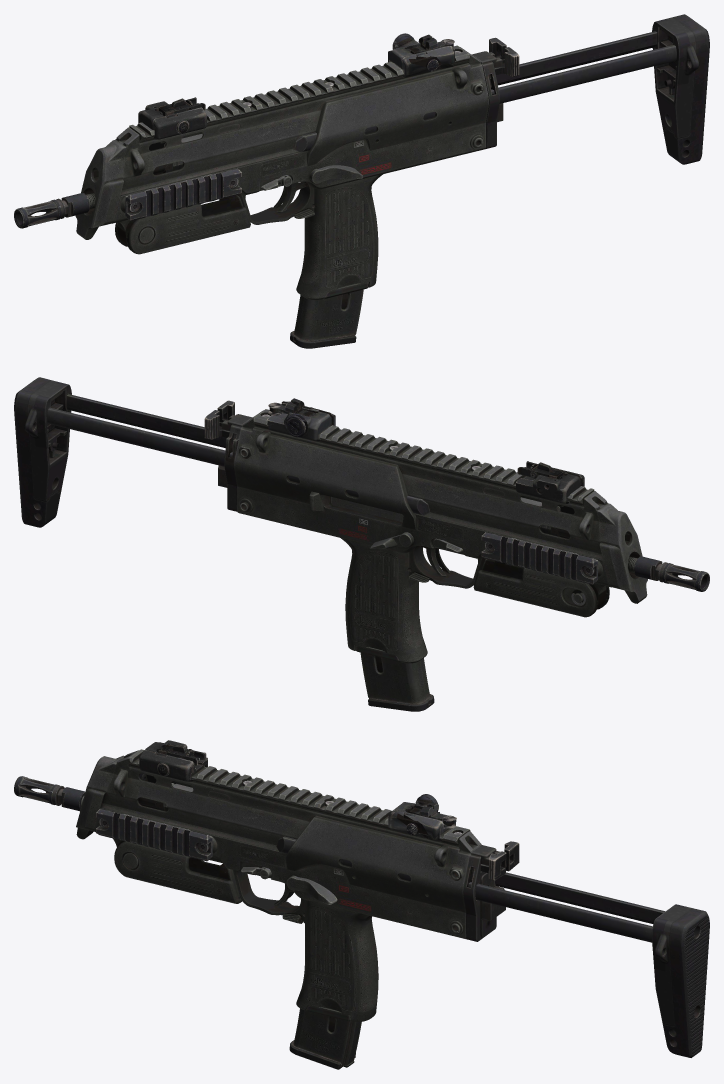
File: weapon_mp7.glb
The picture shows the model from 3 angles, top to bottom: view 1: azimuth 30°, elevation 25°; view 2: azimuth 150°, elevation 25°; view 3: azimuth 330°, elevation 25°; orthographic projection.
Parts seen in each view (by area): view 1: main_frame_mp7, stock_mp7, grip_mp7, handguard_mp7, magazine_mp7, rear_sight_mp7, front_sight_mp7, barrel_mp7; view 2: main_frame_mp7, stock_mp7, grip_mp7, handguard_mp7, magazine_mp7, rear_sight_mp7, front_sight_mp7, barrel_mp7; view 3: main_frame_mp7, stock_mp7, grip_mp7, handguard_mp7, magazine_mp7, rear_sight_mp7, front_sight_mp7, barrel_mp7.
Boxes of the visible parts, <box> form: main_frame_mp7: <box>75,37,519,239</box>; stock_mp7: <box>293,14,709,164</box>; grip_mp7: <box>237,174,382,299</box>; handguard_mp7: <box>115,195,250,254</box>; magazine_mp7: <box>290,282,368,348</box>; rear_sight_mp7: <box>388,33,454,77</box>; front_sight_mp7: <box>138,97,206,139</box>; barrel_mp7: <box>14,193,95,228</box>; main_frame_mp7: <box>204,400,647,603</box>; stock_mp7: <box>14,377,429,527</box>; grip_mp7: <box>341,538,485,663</box>; handguard_mp7: <box>473,559,609,617</box>; magazine_mp7: <box>355,645,434,711</box>; rear_sight_mp7: <box>267,398,335,441</box>; front_sight_mp7: <box>516,461,584,503</box>; barrel_mp7: <box>628,556,709,591</box>; main_frame_mp7: <box>76,749,519,941</box>; stock_mp7: <box>276,836,709,1057</box>; grip_mp7: <box>233,870,378,1021</box>; handguard_mp7: <box>113,838,242,903</box>; magazine_mp7: <box>289,1005,361,1069</box>; rear_sight_mp7: <box>388,794,456,841</box>; front_sight_mp7: <box>139,740,207,781</box>; barrel_mp7: <box>14,776,85,811</box>.
Bounding box in the file's own units: 61.84 × 24.28 × 6.18.
Materials: 9 (9 with a texture image).
